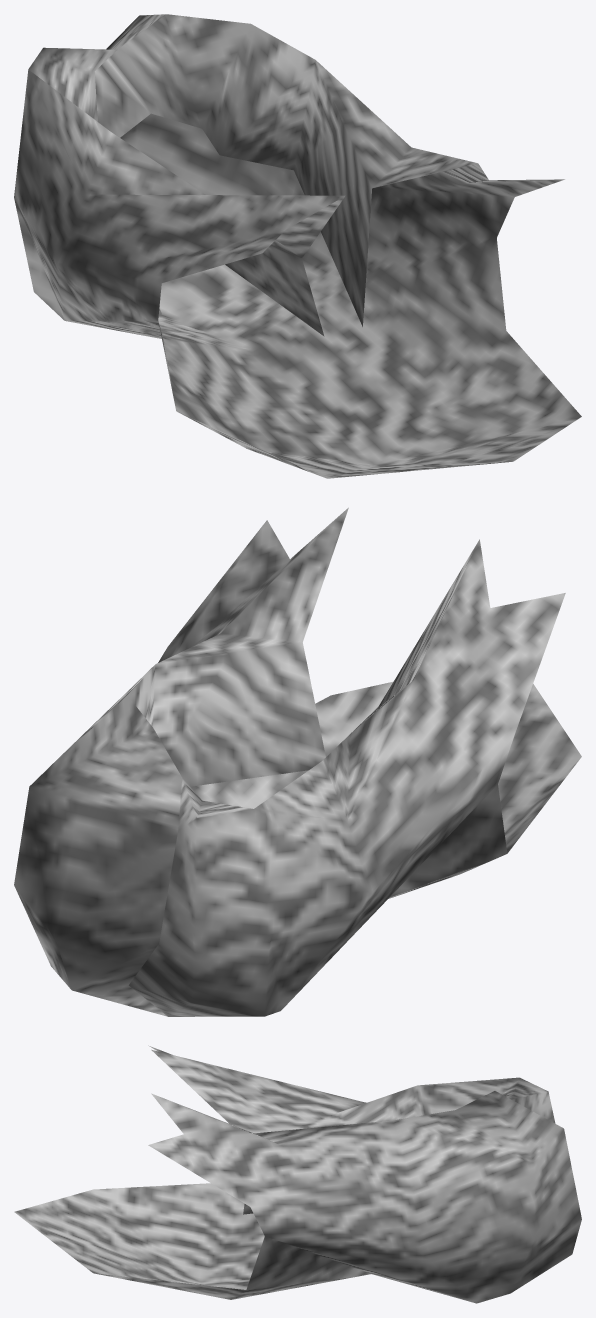
The model's file is Wig_Kate_Hair_LongBraid02.fbx.
3 views of the same model, one above another, from view 1: azimuth 30°, elevation 25°; view 2: azimuth 150°, elevation 25°; view 3: azimuth 270°, elevation 25° (orthographic). The views are drawn at different scales.
Parts seen in each view (by area): view 1: BoxOfJars003; view 2: BoxOfJars003; view 3: BoxOfJars003.
Boxes of the visible parts, x1,y1,x2,y2 form: BoxOfJars003: (14,14,581,478); BoxOfJars003: (14,507,581,1016); BoxOfJars003: (14,1045,581,1303).
Size of the model in its own units: 16.14 by 13.89 by 33.32.
